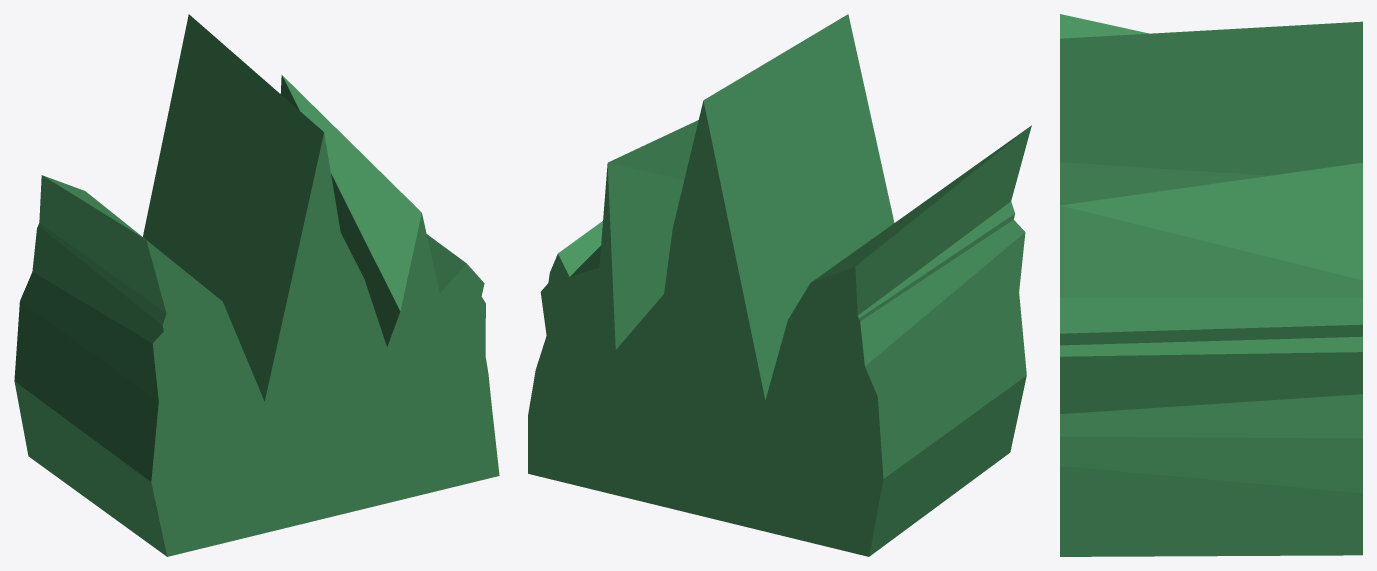
Rendered from Arbusto2.glb.
3 renders of one model, left to right at view 1: azimuth 30°, elevation 25°; view 2: azimuth 150°, elevation 25°; view 3: azimuth 270°, elevation 25°, orthographic. The views are drawn at different scales.
Visible parts, largest first — view 1: Cube; view 2: Cube; view 3: Cube.
Boxes of the visible parts, left/top/right/bottom form: Cube: left=14, top=14, right=499, bottom=556; Cube: left=528, top=14, right=1031, bottom=556; Cube: left=1060, top=14, right=1362, bottom=556.
Size of the model in its own units: 0.7338 by 0.8004 by 0.4962.
